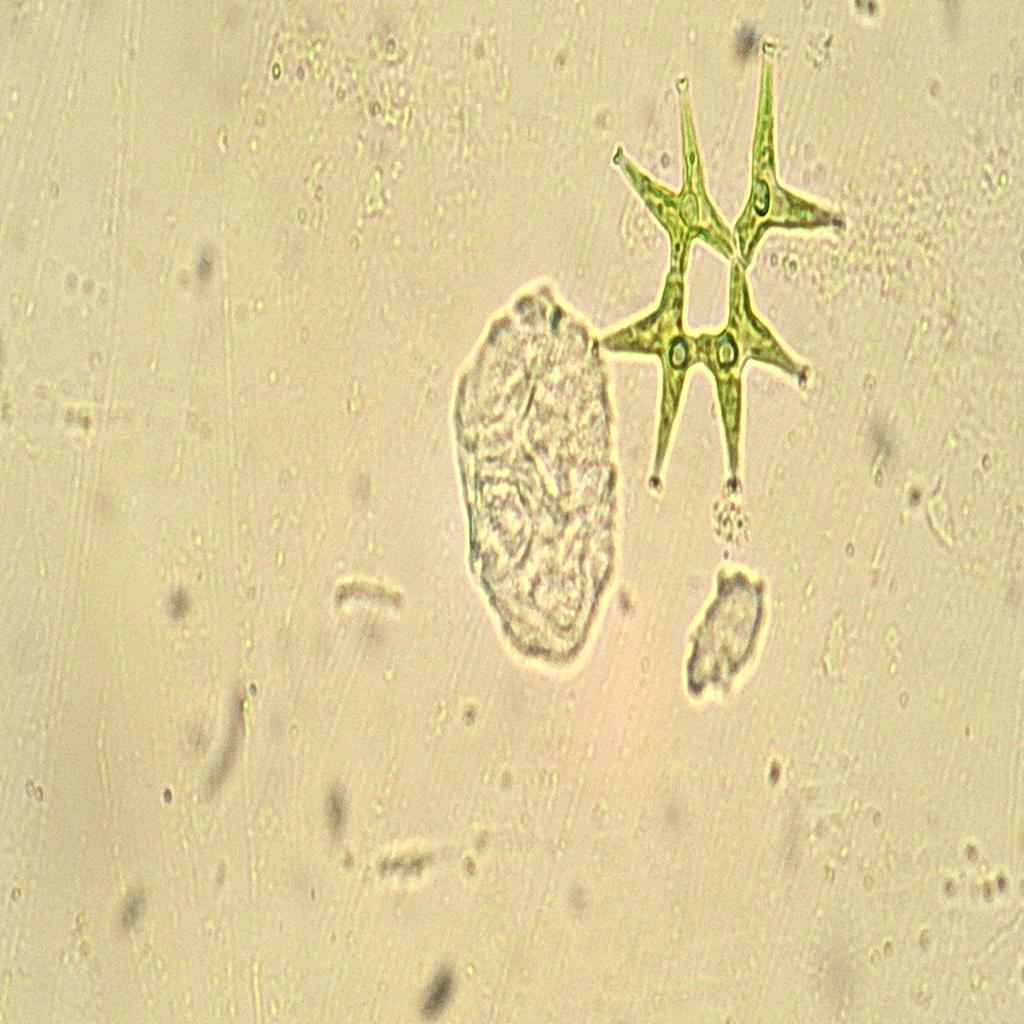Pediastrum_75FI: (584, 48, 862, 528)
